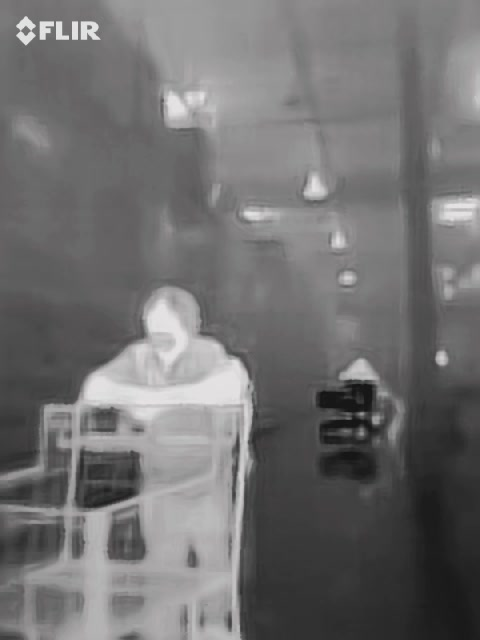head: (142, 287, 200, 355)
